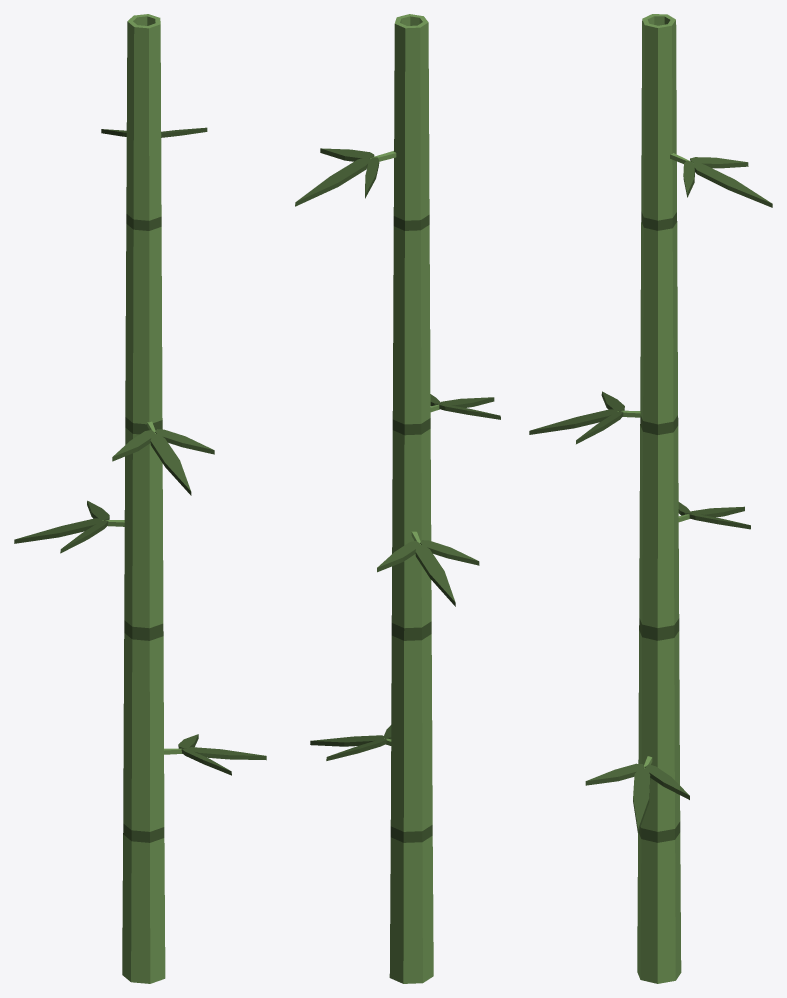
Rendered from tree_bamboo_2.glb.
3 renders of one model, left to right at view 1: azimuth 30°, elevation 25°; view 2: azimuth 150°, elevation 25°; view 3: azimuth 270°, elevation 25°, orthographic.
Visible parts, largest first — view 1: tree_bamboo_2; view 2: tree_bamboo_2; view 3: tree_bamboo_2.
Part boxes in pixels (x1,y1,x2,y2): tree_bamboo_2: (14, 14, 266, 983); tree_bamboo_2: (295, 14, 500, 983); tree_bamboo_2: (529, 14, 772, 983).
Bounding box in the file's own units: 1.31 × 6 × 1.39.
